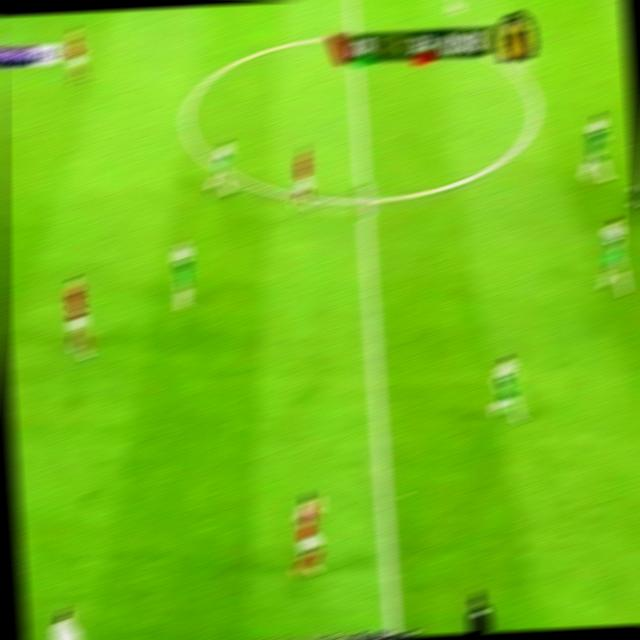halfcircle_bottom: (350, 184, 381, 218)
